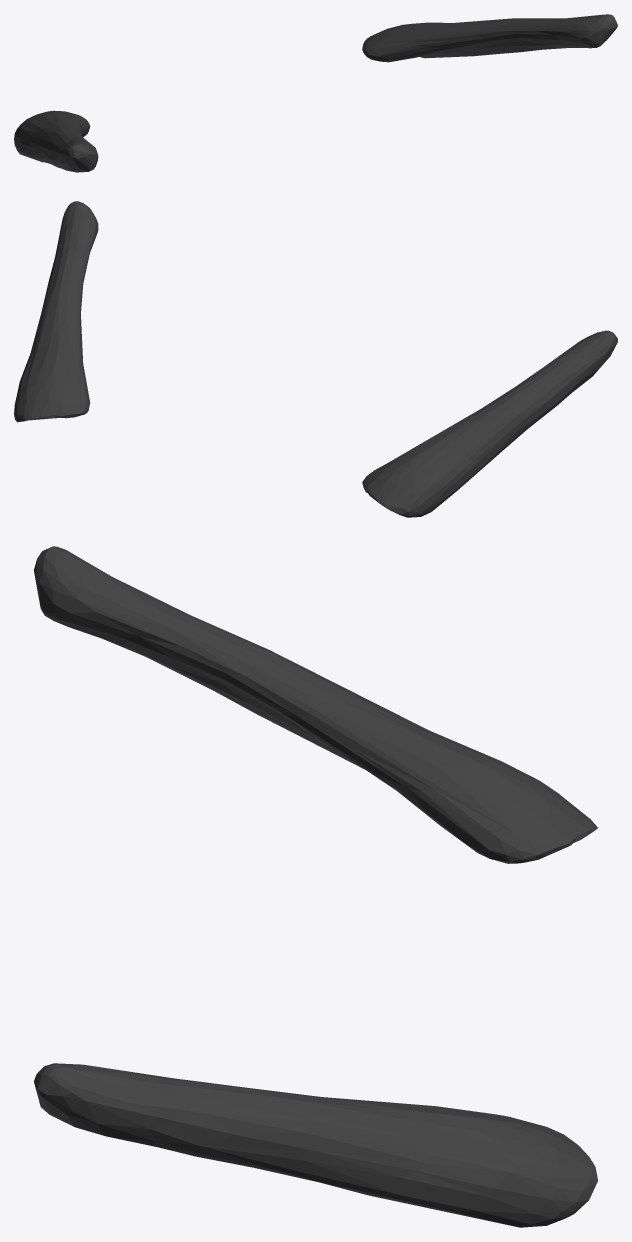
The model's file is m_quadratus_femoris.glb.
The picture shows the model from 3 angles, top to bottom: view 1: azimuth 30°, elevation 25°; view 2: azimuth 150°, elevation 25°; view 3: azimuth 270°, elevation 25°; orthographic projection. The views are drawn at different scales.
Visible parts, largest first — view 1: m_quadratus_femoris; view 2: m_quadratus_femoris; view 3: m_quadratus_femoris.
Part boxes in pixels (x1,y1,x2,y2): m_quadratus_femoris: (14, 14, 617, 172); m_quadratus_femoris: (14, 201, 617, 517); m_quadratus_femoris: (34, 546, 597, 1227).
Size of the model in its own units: 0.00414 by 0.000804 by 0.00185.
1 material, 1 textured.
